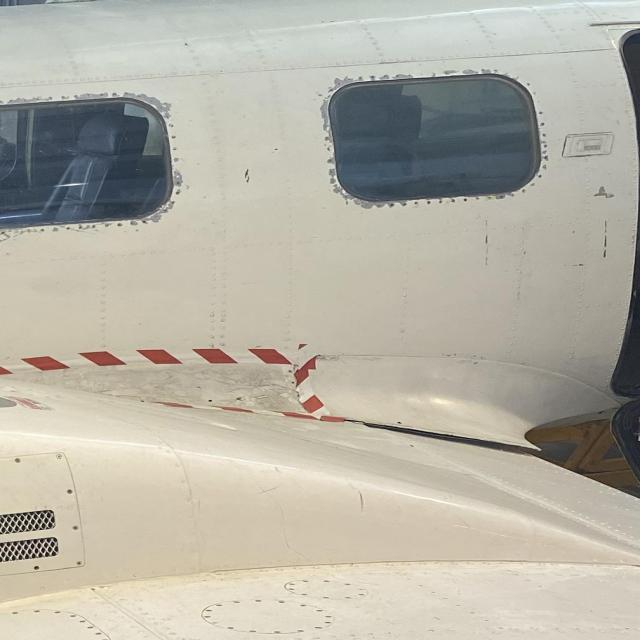Missing-head: (32, 566, 40, 571)
Paint-off: (39, 364, 303, 414), (130, 88, 173, 116), (324, 74, 374, 87), (354, 199, 403, 211), (318, 94, 332, 129), (0, 226, 23, 243), (0, 94, 14, 105)
